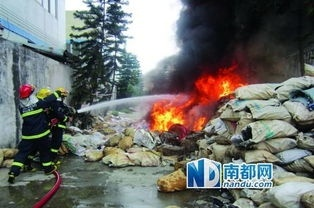fire: (145, 67, 243, 133)
